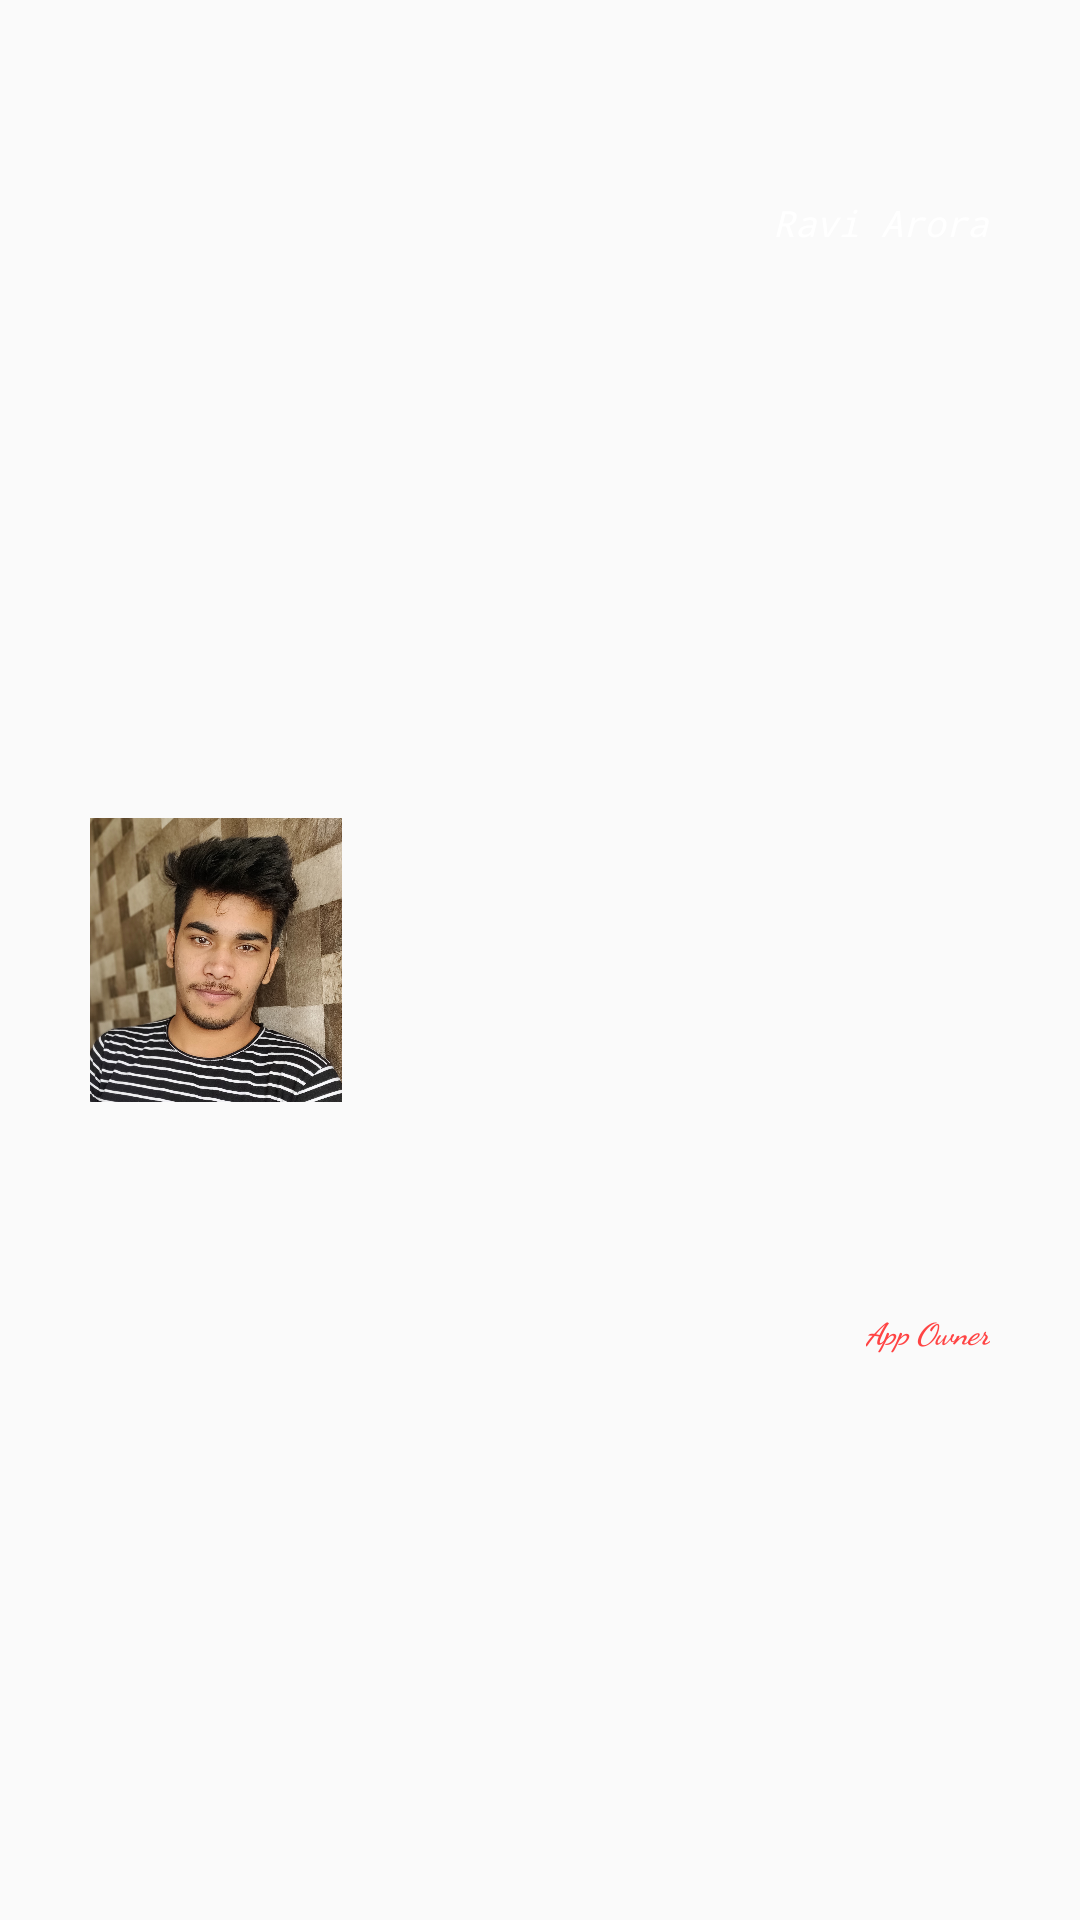

Point at icon controls on the screen. Image size 1080px x 1920px, points as [x,y].
myface: [216,960]
